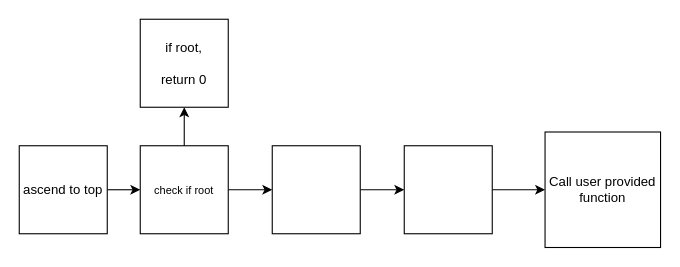
Image size: 680x267. Some labels were removed from this diagram. The box of each missing label's shape, as (x1, y1, x2, y2) in pixels:
subtract 1 from remaining children: (271, 145, 360, 234)
track thread used to go back up: (403, 145, 492, 234)
